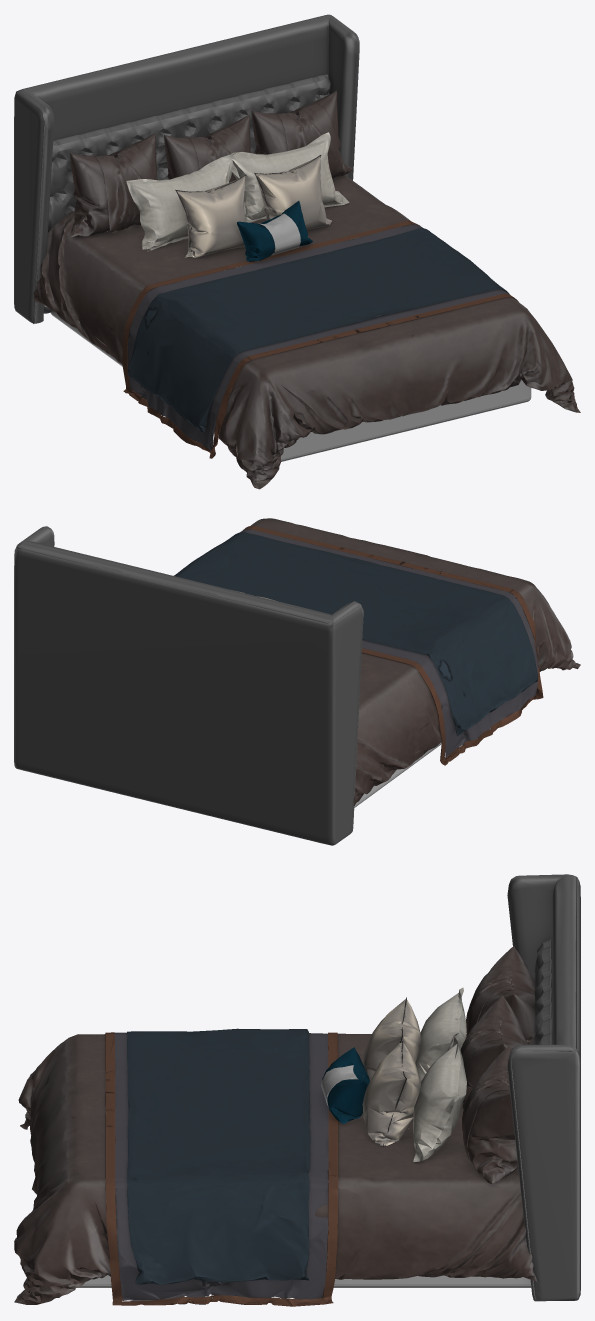
File: raw_model.obj
3 renders of one model, top to bottom at view 1: azimuth 30°, elevation 25°; view 2: azimuth 150°, elevation 25°; view 3: azimuth 270°, elevation 25°, orthographic. The views are drawn at different scales.
Parts seen in each view (by area): view 1: solid_003, solid_002, solid_006, solid_010, solid_008, solid_004, solid_005, solid_011, solid_009, solid_007; view 2: solid_002, solid_006, solid_003, solid_004, solid_011; view 3: solid_003, solid_006, solid_002, solid_004, solid_011, solid_010, solid_008, solid_005, solid_009, solid_007.
Part boxes in pixels (x1=…): solid_003: x1=34, y1=90, x2=580, y2=489; solid_002: x1=14, y1=14, x2=359, y2=323; solid_006: x1=127, y1=227, x2=509, y2=432; solid_010: x1=126, y1=132, x2=349, y2=251; solid_008: x1=177, y1=156, x2=331, y2=257; solid_004: x1=127, y1=224, x2=509, y2=450; solid_005: x1=50, y1=231, x2=531, y2=461; solid_011: x1=122, y1=220, x2=518, y2=458; solid_009: x1=237, y1=201, x2=312, y2=261; solid_007: x1=259, y1=213, x2=300, y2=255; solid_002: x1=14, y1=526, x2=363, y2=845; solid_006: x1=174, y1=532, x2=537, y2=736; solid_003: x1=250, y1=518, x2=580, y2=805; solid_004: x1=240, y1=529, x2=537, y2=757; solid_011: x1=243, y1=526, x2=543, y2=765; solid_003: x1=14, y1=946, x2=537, y2=1304; solid_006: x1=127, y1=1028, x2=310, y2=1284; solid_002: x1=507, y1=874, x2=580, y2=1301; solid_004: x1=114, y1=1032, x2=328, y2=1300; solid_011: x1=105, y1=1032, x2=338, y2=1306; solid_010: x1=413, y1=987, x2=466, y2=1162; solid_008: x1=362, y1=999, x2=420, y2=1145; solid_005: x1=77, y1=1114, x2=531, y2=1287; solid_009: x1=322, y1=1047, x2=369, y2=1123; solid_007: x1=321, y1=1065, x2=358, y2=1106.
Bounding box in the file's own units: 2.11 × 1.34 × 2.7.
1 material, 1 textured.
